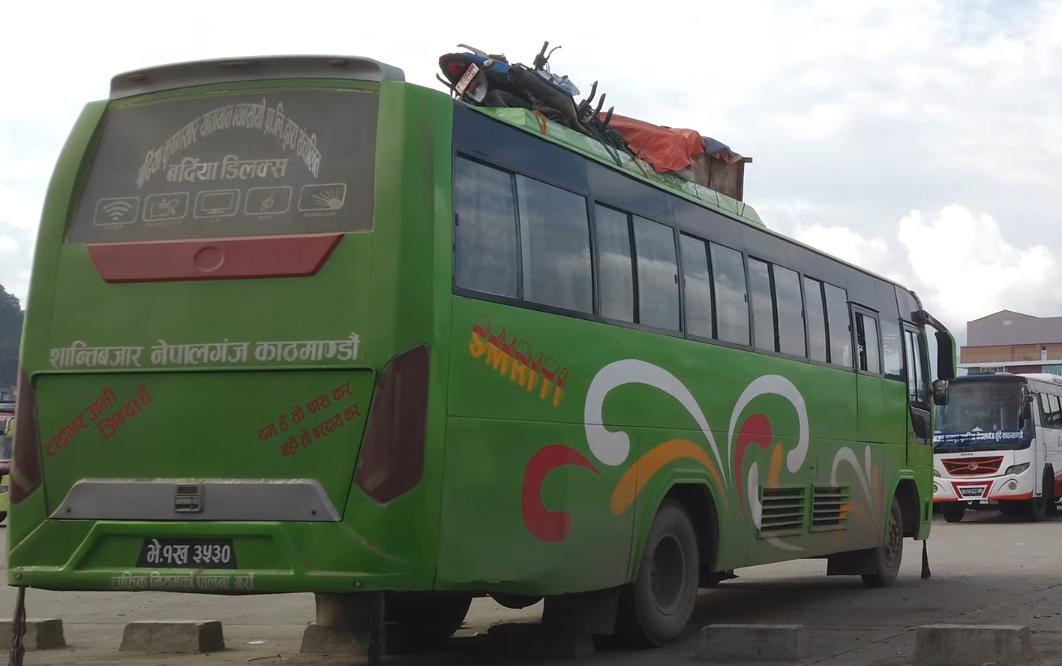bus: (0, 35, 958, 656)
